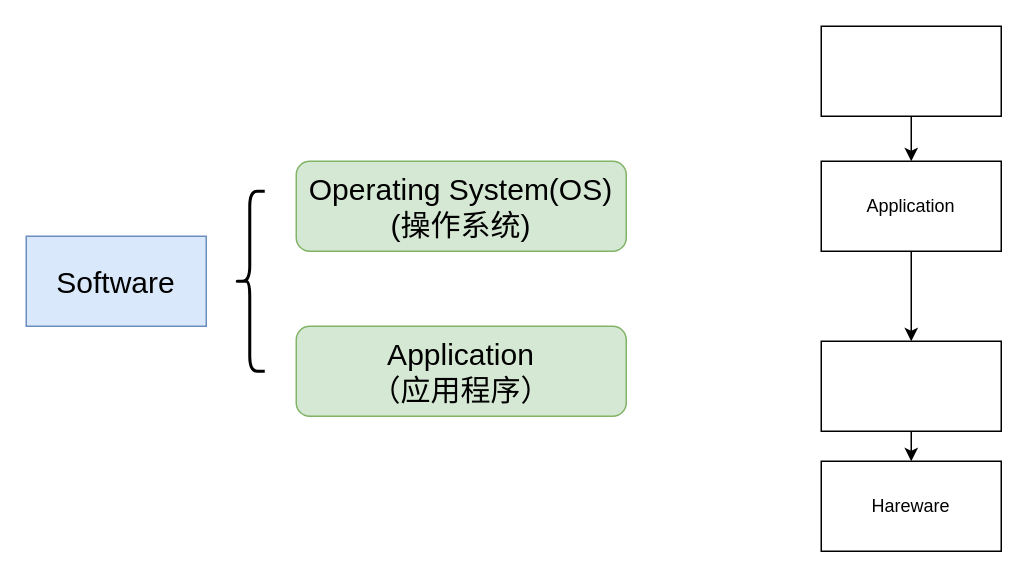
The diagram is 1028 pixels wide and 578 high, and some of its shapes have lost their labels. The shapes that lost their labels are listed below. From the top down, each one's centre as x and y in pixels, then its label:
point (910, 70): User
point (910, 385): OS
